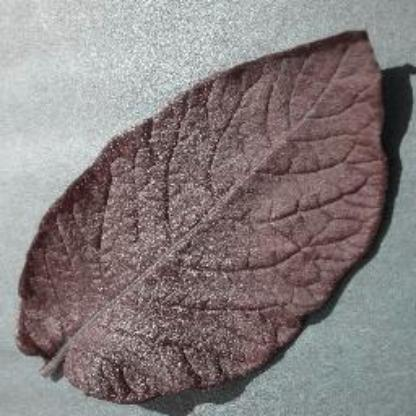Healthy-plant: (15, 19, 398, 400)
